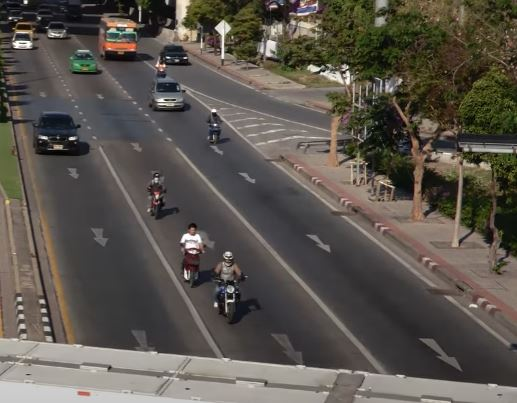Bus: (97, 17, 138, 60)
Car: (34, 110, 80, 154), (149, 79, 186, 111), (69, 49, 97, 74), (162, 44, 189, 65), (45, 21, 68, 40), (10, 31, 33, 49)
Motorcycle: (212, 248, 248, 323), (178, 221, 207, 287), (146, 171, 166, 218), (205, 108, 224, 146), (153, 53, 169, 80)
